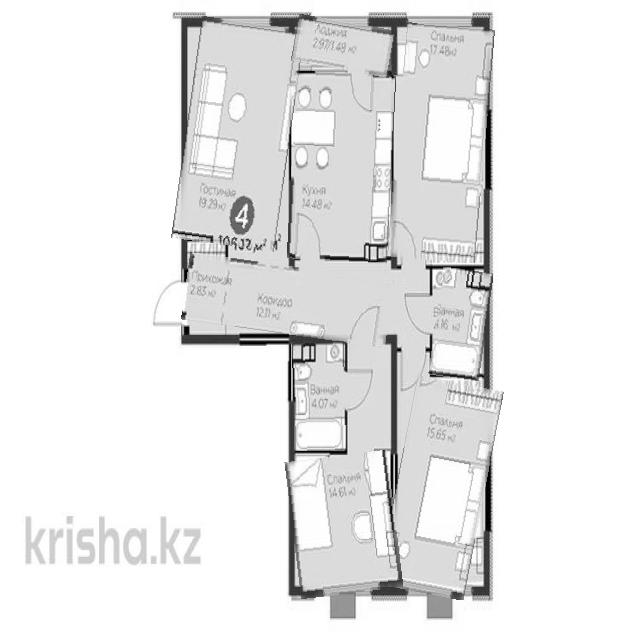balcony: (293, 18, 395, 74)
bathroom: (431, 267, 490, 380), (293, 342, 347, 451)
hallway: (183, 259, 393, 341)
kitchen: (290, 72, 394, 262)
living_room: (179, 19, 298, 249), (387, 378, 495, 597), (392, 23, 490, 262), (288, 453, 399, 597)
